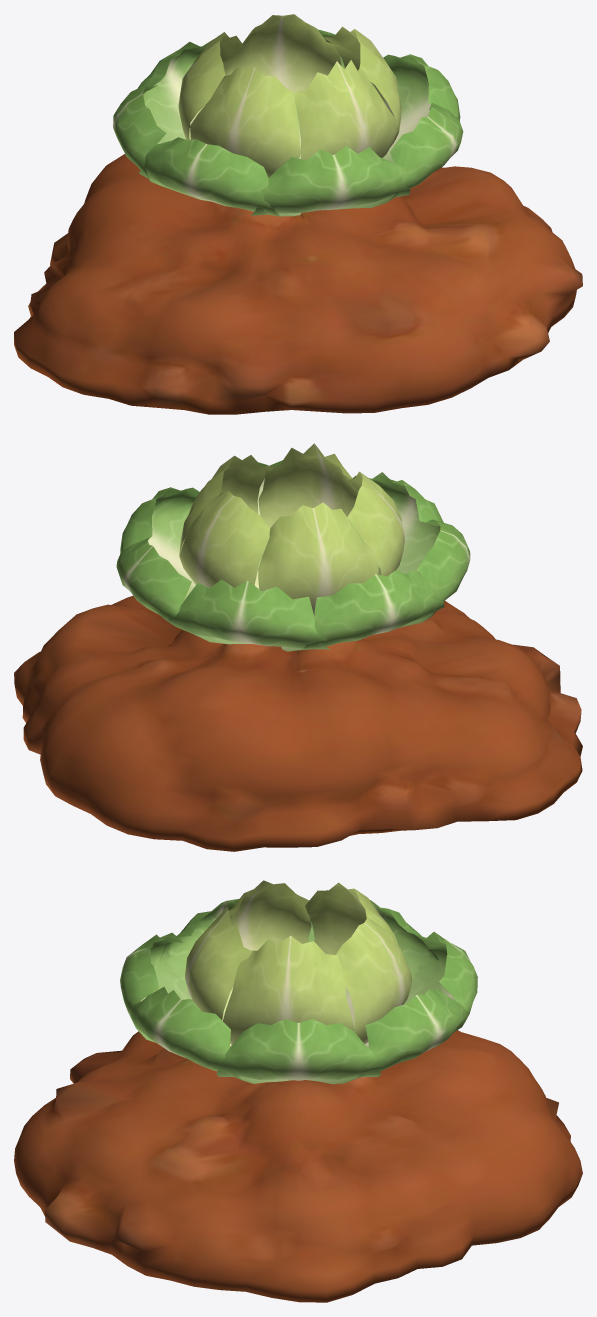
The picture shows the model from 3 angles, top to bottom: view 1: azimuth 30°, elevation 25°; view 2: azimuth 150°, elevation 25°; view 3: azimuth 270°, elevation 25°; orthographic projection.
Parts seen in each view (by area): view 1: cabbage-growing; view 2: cabbage-growing; view 3: cabbage-growing.
Part boxes in pixels (<box>): cabbage-growing: <box>14,14,582,414</box>; cabbage-growing: <box>14,443,582,851</box>; cabbage-growing: <box>14,880,582,1302</box>.
Size of the model in its own units: 0.7926 by 0.3892 by 0.7345.
1 material, 1 textured.
